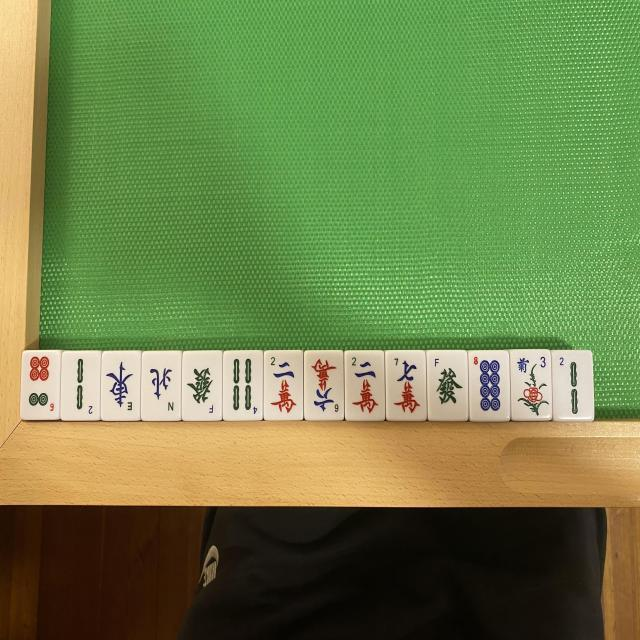bf3: (515, 354, 555, 424)
hdg: (184, 354, 223, 422), (428, 352, 466, 419)
hwe: (106, 351, 142, 418)
hwn: (142, 356, 179, 422)
sb2: (554, 351, 592, 419), (63, 352, 99, 418)
sb4: (223, 350, 260, 418)
sc2: (346, 351, 386, 419), (265, 352, 304, 420)
sc6: (304, 350, 343, 418)
sc7: (384, 351, 424, 418)
sd6: (20, 351, 58, 418)
sd8: (471, 351, 509, 419)
